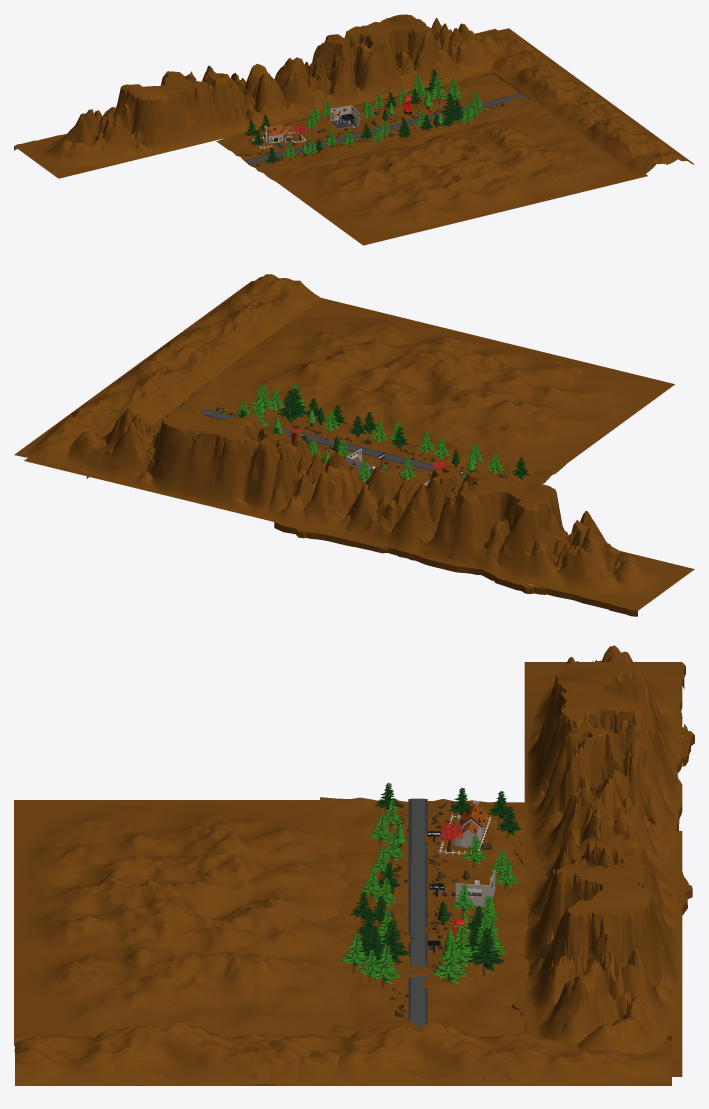
3 views of the same model, one above another, from view 1: azimuth 30°, elevation 25°; view 2: azimuth 150°, elevation 25°; view 3: azimuth 270°, elevation 25° (orthographic). The views are drawn at different scales.
Parts seen in each view (by area): view 1: D Landscape R, D Landscape L.001, D Landscape L, D Landscape B, D Ground, D Road, Plane; view 2: D Landscape R, D Landscape L.001, D Landscape L, D Landscape B, D Ground, D Road; view 3: D Landscape R, D Landscape B, D Landscape L, D Landscape L.001, D Ground, D Road, D Road Side, D tree2.008, D tree2.001.
Part boxes in pixels (x1,y1,x2,y2): D Landscape R: (274, 110, 647, 245); D Landscape L.001: (14, 64, 320, 178); D Landscape L: (256, 14, 502, 132); D Landscape B: (479, 28, 694, 178); D Ground: (216, 74, 550, 181); D Road: (245, 93, 525, 163); Plane: (330, 105, 359, 128); D Landscape R: (211, 298, 674, 470); D Landscape L.001: (274, 466, 694, 616); D Landscape L: (24, 402, 389, 549); D Landscape B: (14, 274, 323, 478); D Ground: (152, 381, 565, 489); D Road: (176, 403, 466, 476); D Landscape R: (14, 800, 362, 1045); D Landscape B: (14, 1021, 671, 1085); D Landscape L: (512, 809, 682, 1076); D Landscape L.001: (524, 645, 694, 915); D Ground: (320, 797, 530, 1037); D Road: (410, 798, 425, 1028); D Road Side: (408, 799, 427, 1023); D tree2.008: (467, 927, 503, 975); D tree2.001: (431, 941, 468, 984).
Bounding box in the file's own units: 118 × 12.01 × 79.8.
Materials: 39 (4 with a texture image).
